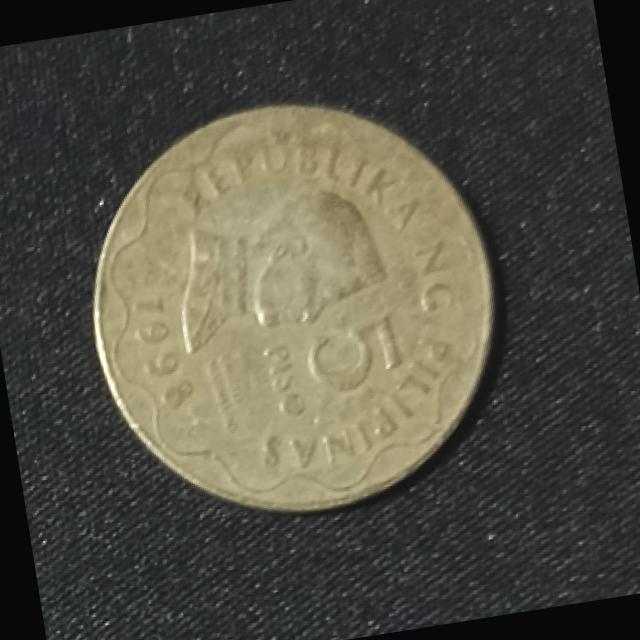5_peso: (93, 106, 492, 510)
